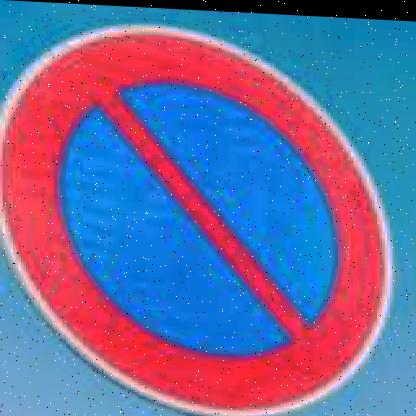No parking: (2, 7, 403, 416)
